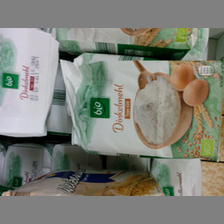flour: (60, 52, 224, 160), (45, 28, 208, 60)
